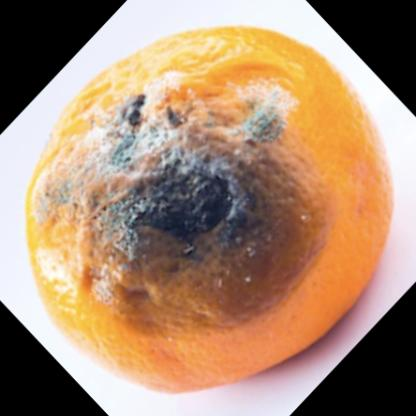rotten: (26, 28, 395, 394)
